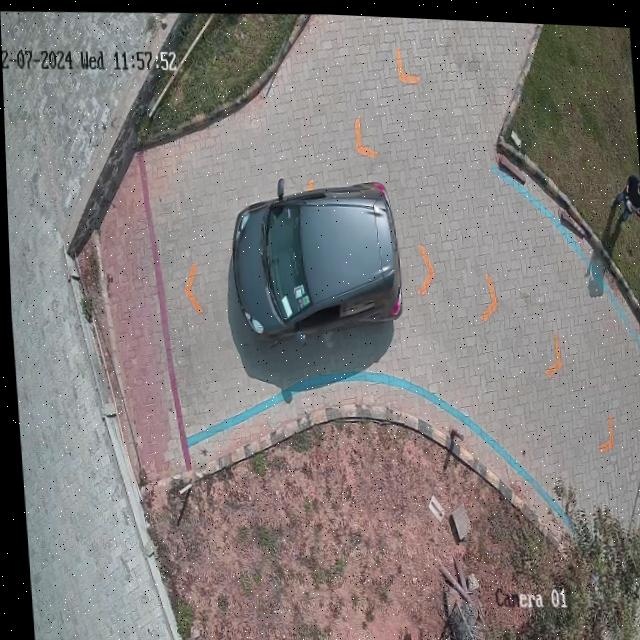car: (373, 202, 393, 284)
